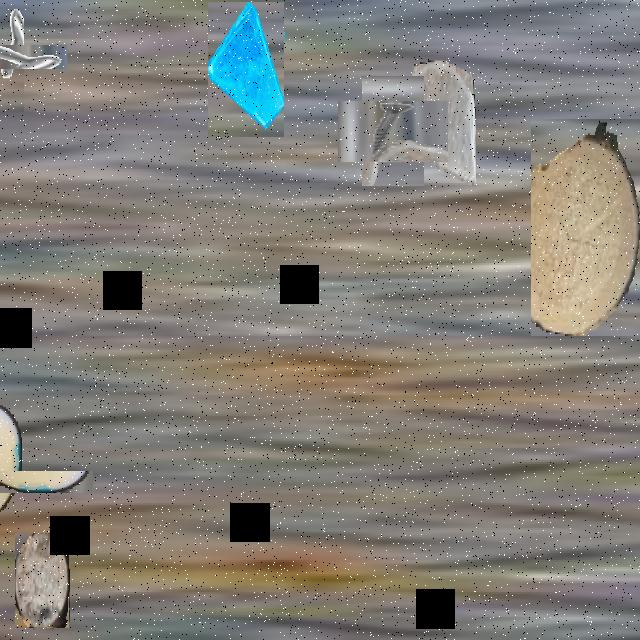glass: (208, 2, 284, 137), (401, 60, 475, 192)
metal: (350, 89, 436, 174), (0, 23, 45, 90)
plastic: (0, 435, 57, 528)
wood: (531, 119, 640, 336), (15, 534, 69, 630)
